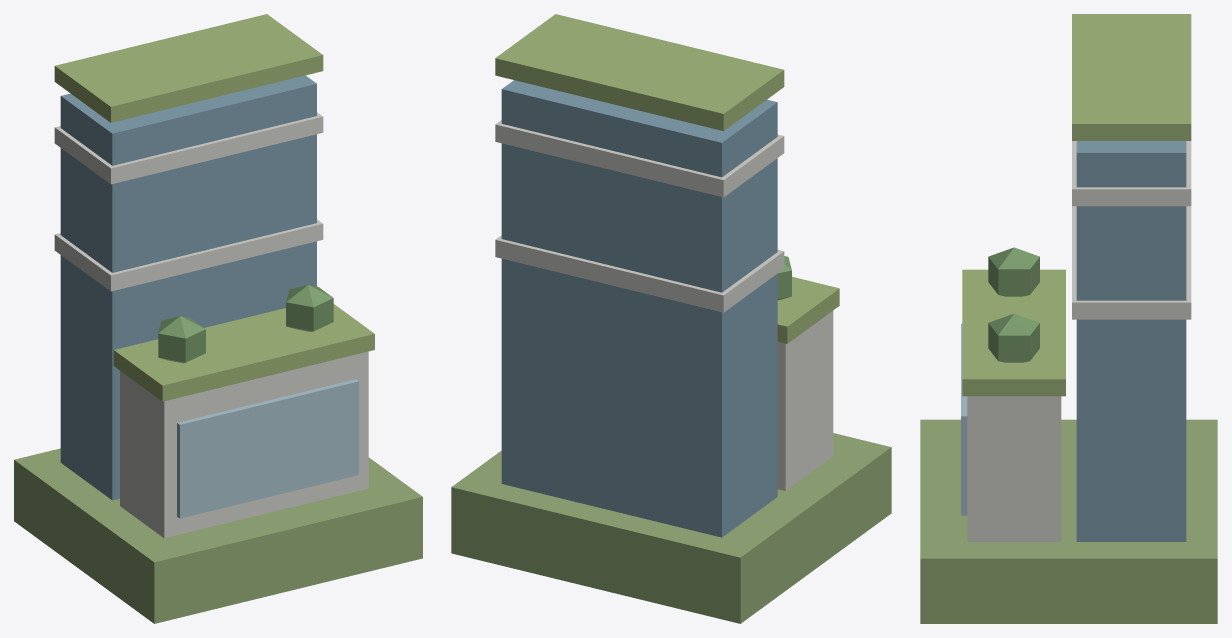
The model's file is house-information-2.glb.
3 views of the same model, side by side, from view 1: azimuth 30°, elevation 25°; view 2: azimuth 150°, elevation 25°; view 3: azimuth 270°, elevation 25° (orthographic). The views are drawn at different scales.
Visible parts, largest first — view 1: LOD0; view 2: LOD0; view 3: LOD0.
Part boxes in pixels (box(x1,y1,x2,y2)): LOD0: box(14, 14, 422, 623); LOD0: box(451, 14, 891, 623); LOD0: box(920, 14, 1217, 623).
Size of what is drawn, in the model's own units: 0.21 by 0.342 by 0.19.
